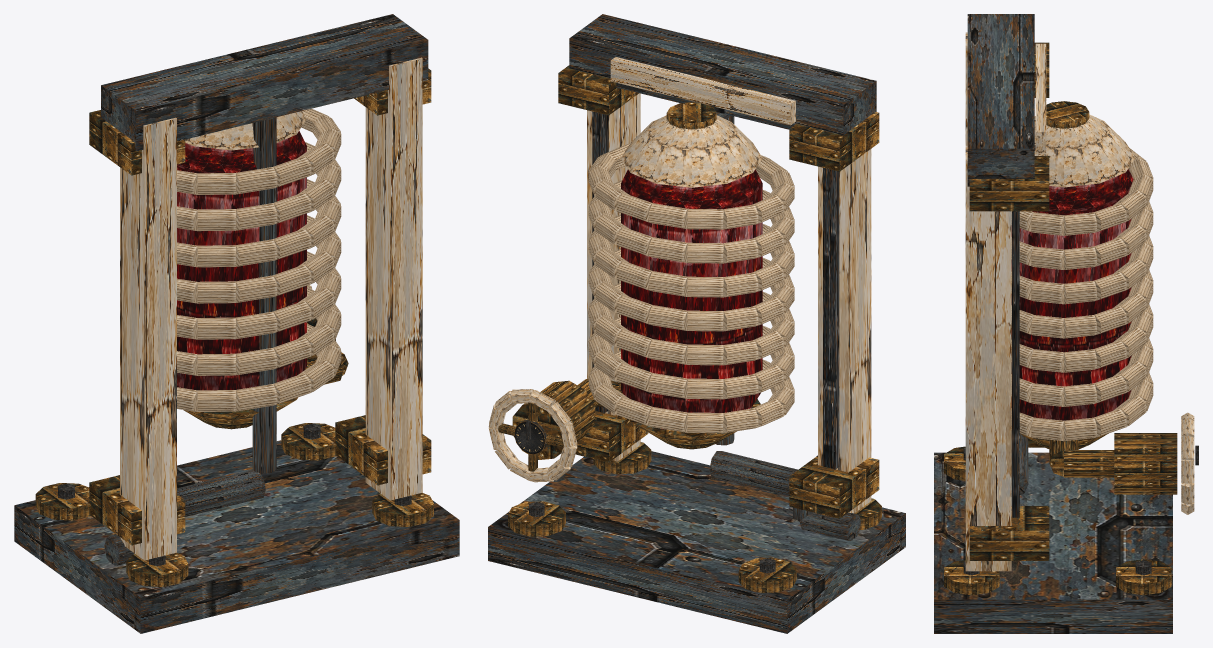
File: ribbed-marrow-tank.gltf
The picture shows the model from 3 angles, left to right: view 1: azimuth 30°, elevation 25°; view 2: azimuth 150°, elevation 25°; view 3: azimuth 270°, elevation 25°; orthographic projection. The views are drawn at different scales.
Parts seen in each view (by area): view 1: FloorPlinth, RearColumn_0.32, RearColumn_-0.32, Header, StockVolume, RearFeed_0, ColumnBracket_0.32_0.22, ColumnBracket_-0.32_0.22, FloorConduit_0, ColumnBracket_-0.32_1.14, MarrowCap, FloorFlange_-0.32_0.22 (+33 smaller); view 2: FloorPlinth, StockVolume, Header, RearColumn_-0.32, MarrowCap, ColumnInset_-0.32, HeaderIvoryInlay, ColumnBracket_-0.32_0.22, ColumnBracket_-0.32_1.14, RearColumn_0.32, ValveHousing, ColumnBracket_0.32_1.14 (+38 smaller); view 3: FloorPlinth, RearColumn_0.32, StockVolume, Header, MarrowCap, ValveHousing, ColumnBracket_0.32_0.22, ColumnBracket_0.32_1.14, ColumnInset_0.32, FloorFlange_0.32_-0.19, Outlet_2, FloorFlange_0.32_0.22 (+40 smaller).
Boxes of the visible parts, <box> form: FloorPlinth: <box>14,440,459,633</box>; RearColumn_0.32: <box>365,57,422,500</box>; RearColumn_-0.32: <box>120,117,176,560</box>; Header: <box>101,14,428,151</box>; StockVolume: <box>177,131,306,390</box>; RearFeed_0: <box>252,117,276,473</box>; ColumnBracket_0.32_0.22: <box>335,415,431,485</box>; ColumnBracket_-0.32_0.22: <box>89,475,185,545</box>; FloorConduit_0: <box>177,470,265,516</box>; ColumnBracket_-0.32_1.14: <box>89,110,185,175</box>; MarrowCap: <box>185,111,306,150</box>; FloorFlange_-0.32_0.22: <box>126,553,188,586</box>; FloorPlinth: <box>488,451,905,633</box>; StockVolume: <box>621,169,762,429</box>; Header: <box>569,14,876,135</box>; RearColumn_-0.32: <box>818,149,871,513</box>; MarrowCap: <box>621,115,762,187</box>; ColumnInset_-0.32: <box>823,168,839,469</box>; HeaderIvoryInlay: <box>610,57,795,125</box>; ColumnBracket_-0.32_0.22: <box>789,455,879,518</box>; ColumnBracket_-0.32_1.14: <box>789,112,879,171</box>; RearColumn_0.32: <box>587,93,640,461</box>; ValveHousing: <box>512,380,595,459</box>; ColumnBracket_0.32_1.14: <box>558,65,638,115</box>; FloorPlinth: <box>934,452,1172,633</box>; RearColumn_0.32: <box>965,145,1011,571</box>; StockVolume: <box>1011,169,1133,420</box>; Header: <box>967,14,1034,186</box>; MarrowCap: <box>1034,114,1135,187</box>; ValveHousing: <box>1114,433,1177,494</box>; ColumnBracket_0.32_0.22: <box>969,506,1049,560</box>; ColumnBracket_0.32_1.14: <box>969,156,1049,211</box>; ColumnInset_0.32: <box>1012,211,1019,517</box>; FloorFlange_0.32_-0.19: <box>1116,559,1171,595</box>; Outlet_2: <box>1064,450,1114,477</box>; FloorFlange_0.32_0.22: <box>944,560,999,595</box>.
Bounding box in the file's own units: 0.83 × 1.26 × 0.6315.
7 materials, 7 textured.
